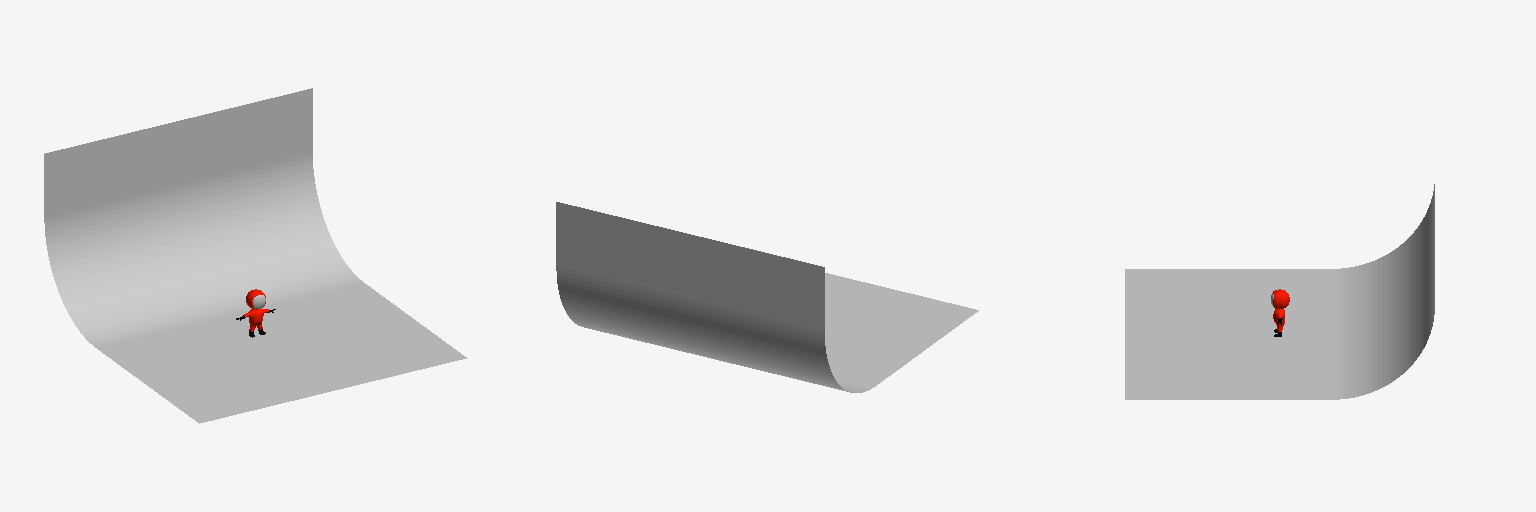
Rendered from astronaut.obj.
3 views of the same model, side by side, from view 1: azimuth 30°, elevation 25°; view 2: azimuth 150°, elevation 25°; view 3: azimuth 270°, elevation 25° (orthographic).
Parts seen in each view (by area): view 1: Plane, as_Cube.002; view 2: Plane; view 3: Plane, as_Cube.002.
Boxes of the visible parts, x1=… form: Plane: x1=44, y1=88, x2=466, y2=423; as_Cube.002: x1=236, y1=289, x2=275, y2=337; Plane: x1=556, y1=202, x2=978, y2=392; Plane: x1=1125, y1=184, x2=1434, y2=399; as_Cube.002: x1=1271, y1=289, x2=1289, y2=336.
Size of the model in its own units: 24.11 by 13.46 by 24.11.